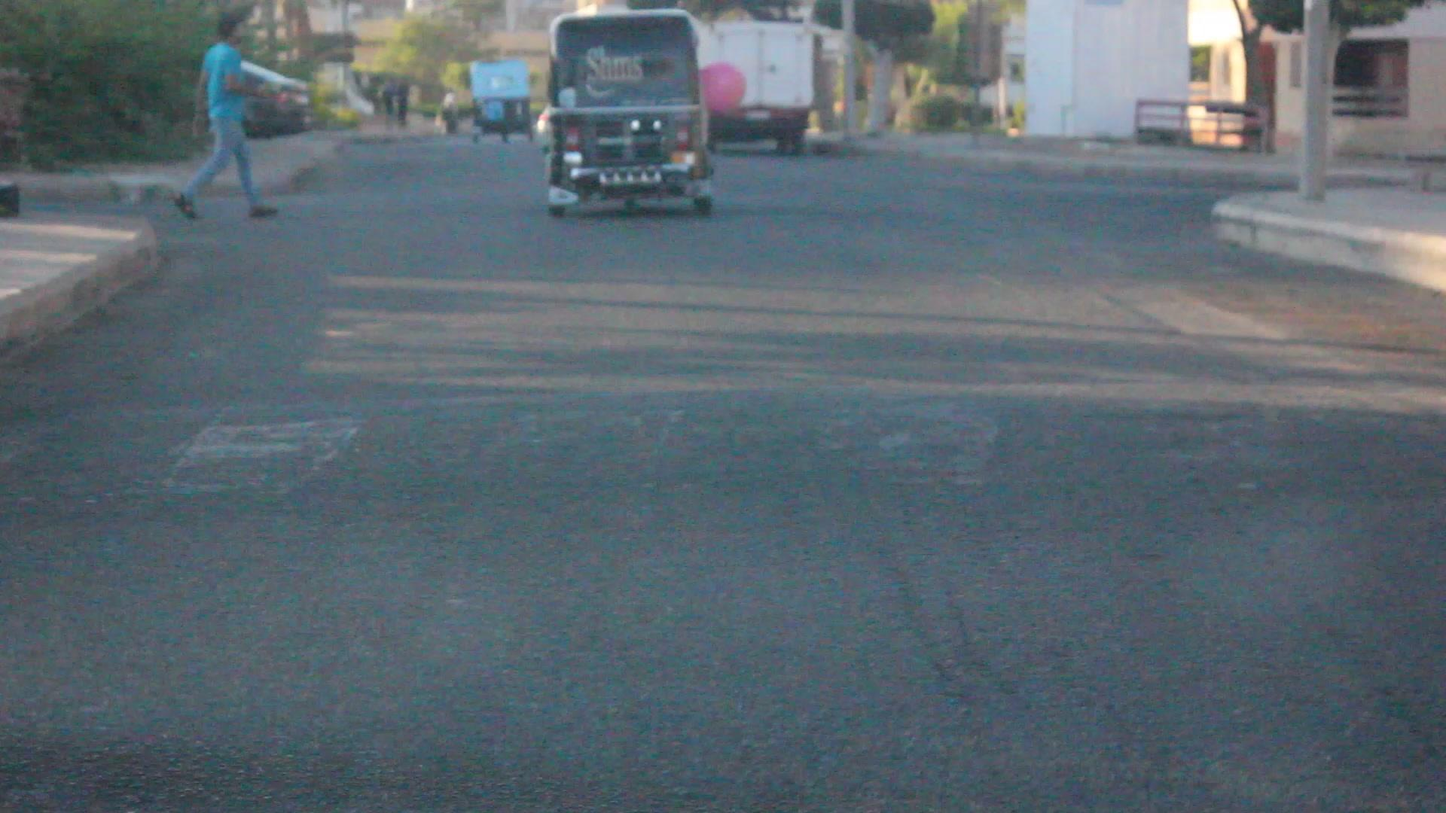Bump: (0, 410, 1446, 502)
